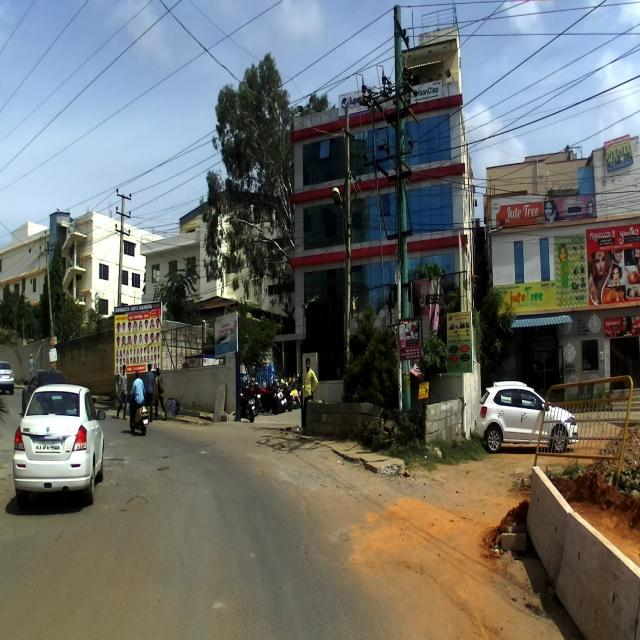Car: (12, 382, 106, 508)
Car_Volkswagen: (476, 379, 578, 454)
